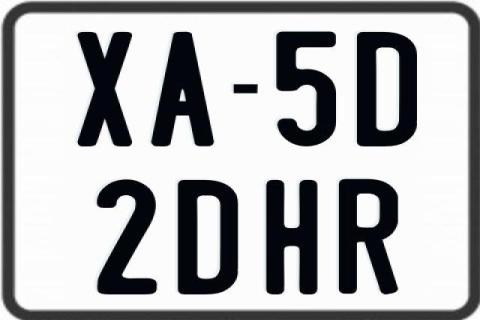0: (96, 178, 162, 298), (276, 29, 338, 147)
A: (152, 31, 218, 151)
D: (178, 180, 243, 294), (356, 32, 416, 149)
H: (263, 180, 319, 296)
R: (337, 179, 396, 295)
X: (75, 29, 130, 149)
